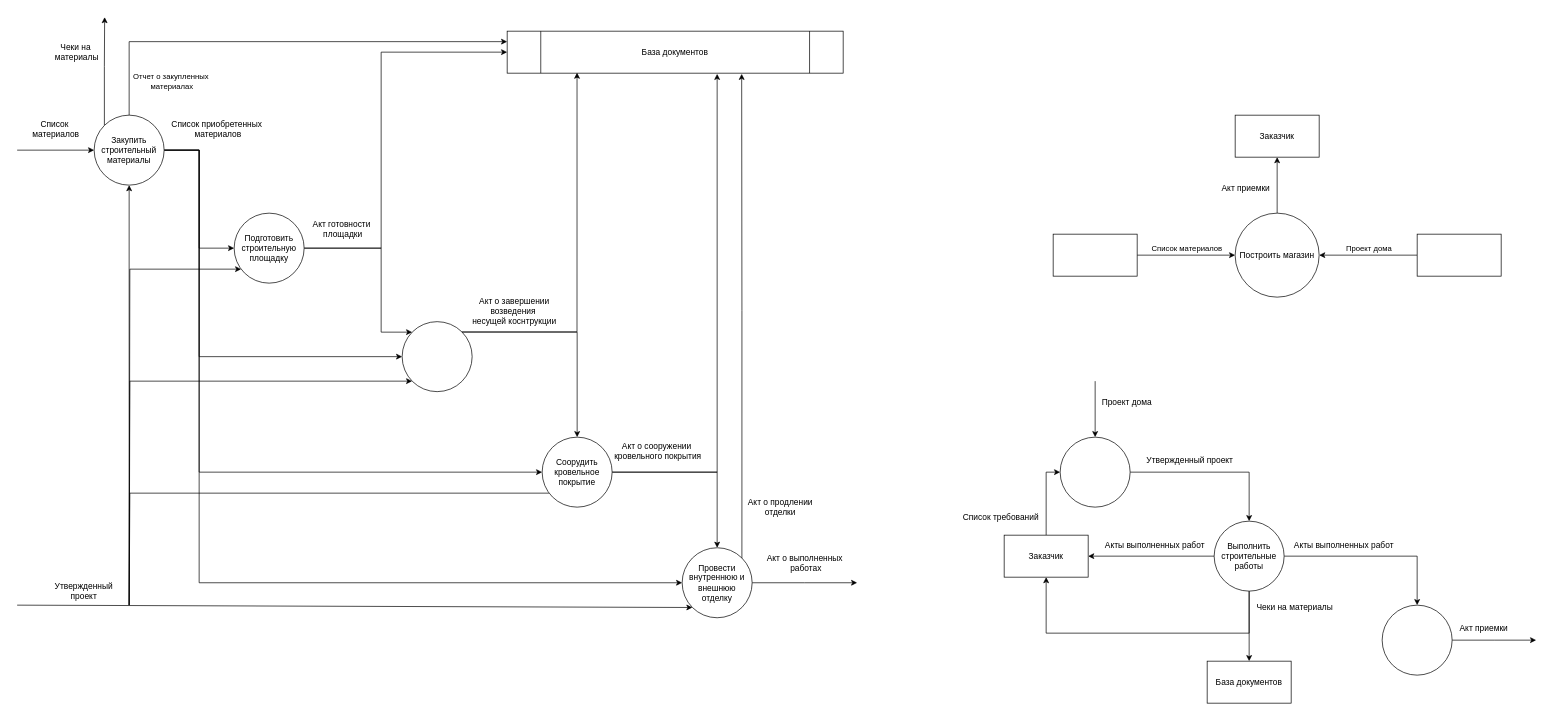
The diagram is 1554 pixels wide and 715 high, and some of its shapes have lost their labels. The box of each missing label's shape, as (x1, y1, x2, y2) in pixels:
Архитектор: (1416, 233, 1501, 276)
Возвести несущие конструкции: (401, 321, 472, 392)
Сдать выполненные работы: (1381, 604, 1452, 675)
Согласовать проект: (1059, 436, 1130, 507)
Строительный магазин: (1052, 233, 1137, 276)
